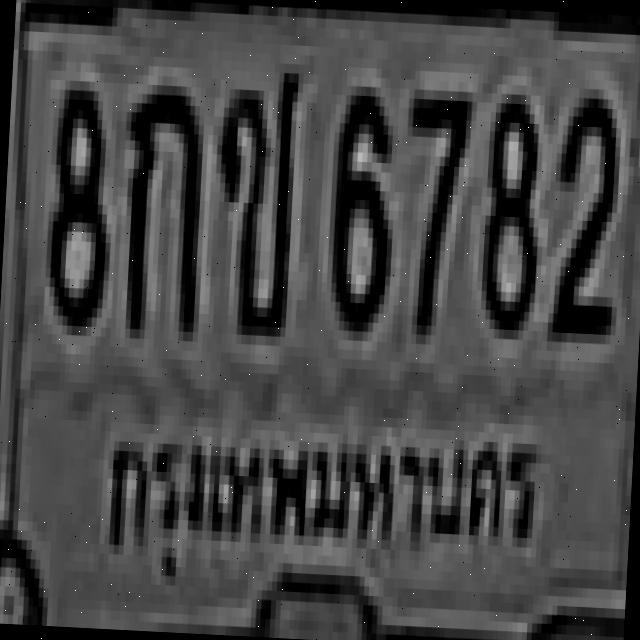10GorGai: (118, 75, 204, 332)
19ChorChang: (208, 60, 300, 328)
2: (548, 88, 618, 334)
6: (325, 76, 396, 323)
7: (398, 80, 468, 326)
8: (41, 80, 112, 327), (475, 84, 541, 330)
Bangkok: (92, 398, 558, 598)
